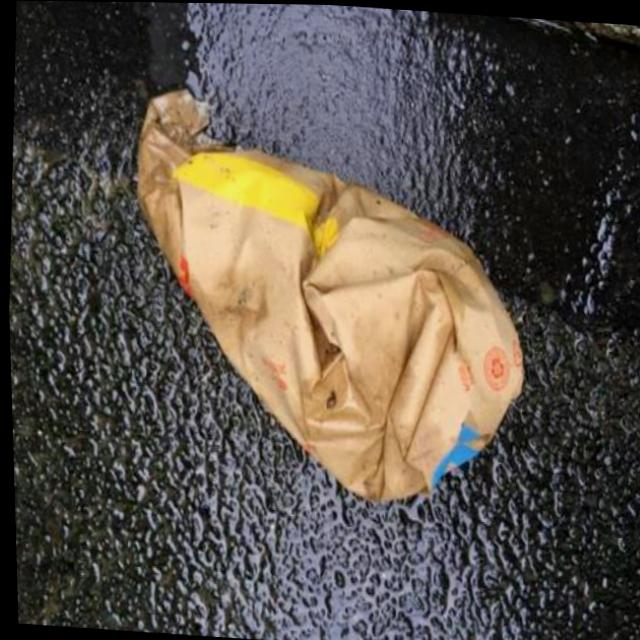Paper: (115, 79, 544, 520)
